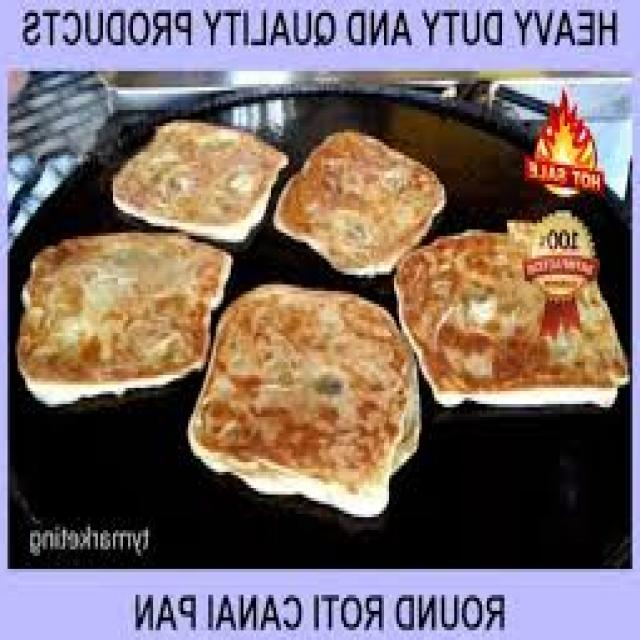Paratha: (208, 301, 420, 503), (27, 219, 234, 398), (417, 223, 603, 394), (278, 127, 420, 300), (140, 116, 264, 227)
